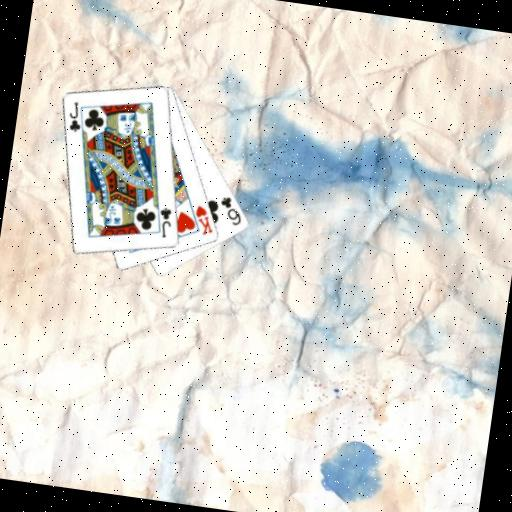6C: (215, 193, 247, 229)
JC: (63, 99, 86, 135), (154, 204, 176, 241)
KH: (190, 201, 218, 238)
